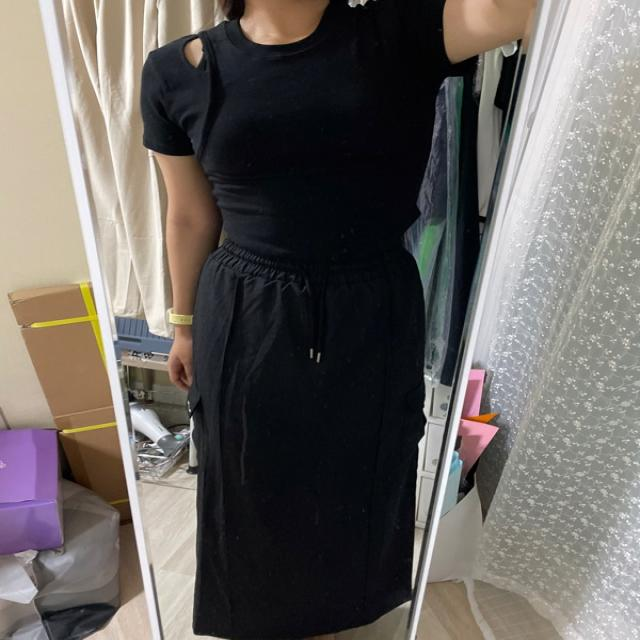shortsleeve: (137, 0, 471, 251)
skirt: (187, 240, 428, 640)
